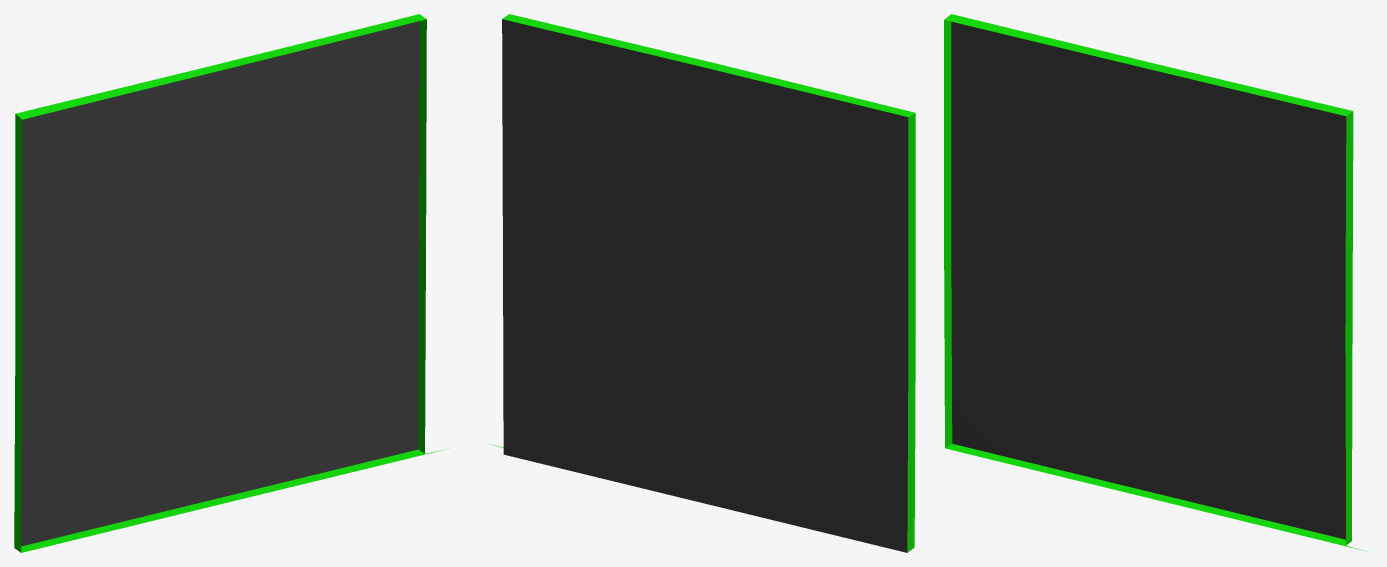
The model's file is B_ordre 4.fbx.
3 views of the same model, side by side, from view 1: azimuth 30°, elevation 25°; view 2: azimuth 150°, elevation 25°; view 3: azimuth 330°, elevation 25° (orthographic).
Parts seen in each view (by area): view 1: Ordre 4; view 2: Ordre 4; view 3: Ordre 4.
Boxes of the visible parts, x1=… form: Ordre 4: x1=14, y1=14, x2=448, y2=552; Ordre 4: x1=488, y1=14, x2=915, y2=552; Ordre 4: x1=944, y1=14, x2=1365, y2=551.
Bounding box in the file's own units: 13.99 × 13.45 × 0.4636.
